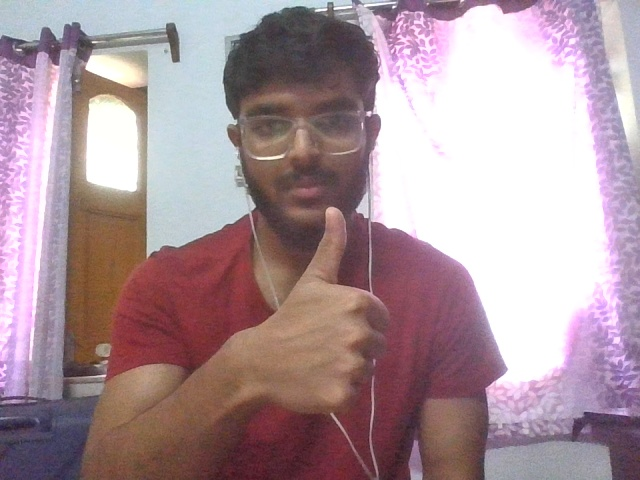ThumbsUp: (257, 206, 391, 416)
